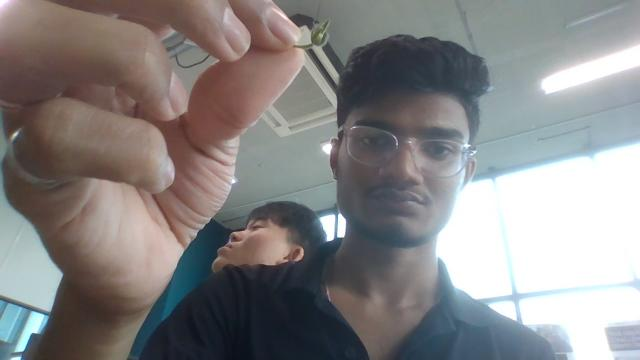Fruit Bud: (294, 19, 330, 51)
